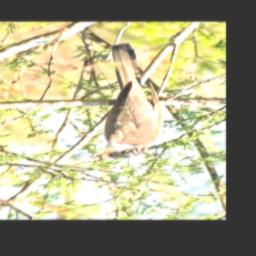Cuckoo: (90, 44, 165, 159)
